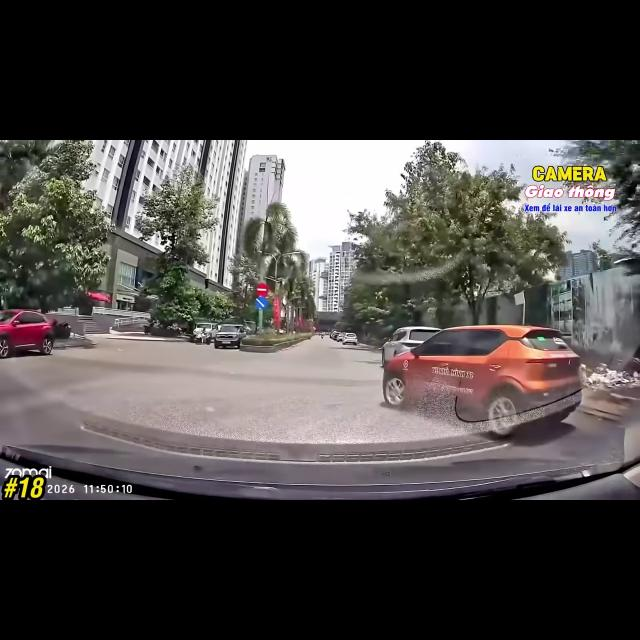car: (383, 325, 581, 437), (0, 310, 54, 358), (381, 326, 441, 366), (214, 324, 247, 348), (189, 322, 216, 344), (342, 333, 357, 345), (336, 333, 345, 342), (330, 330, 338, 339)
motorcycle: (194, 331, 211, 344), (321, 334, 324, 338)
